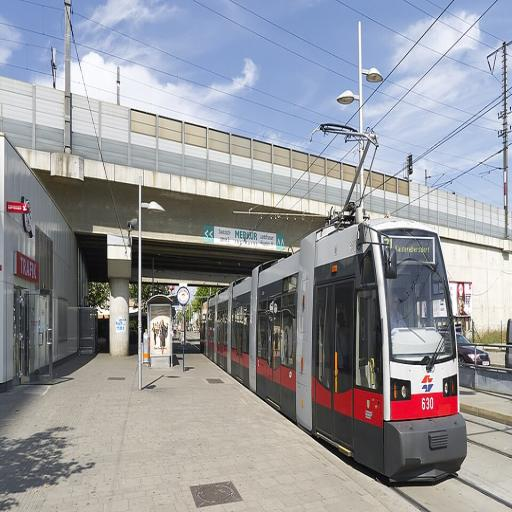ULF: (197, 212, 470, 492)
